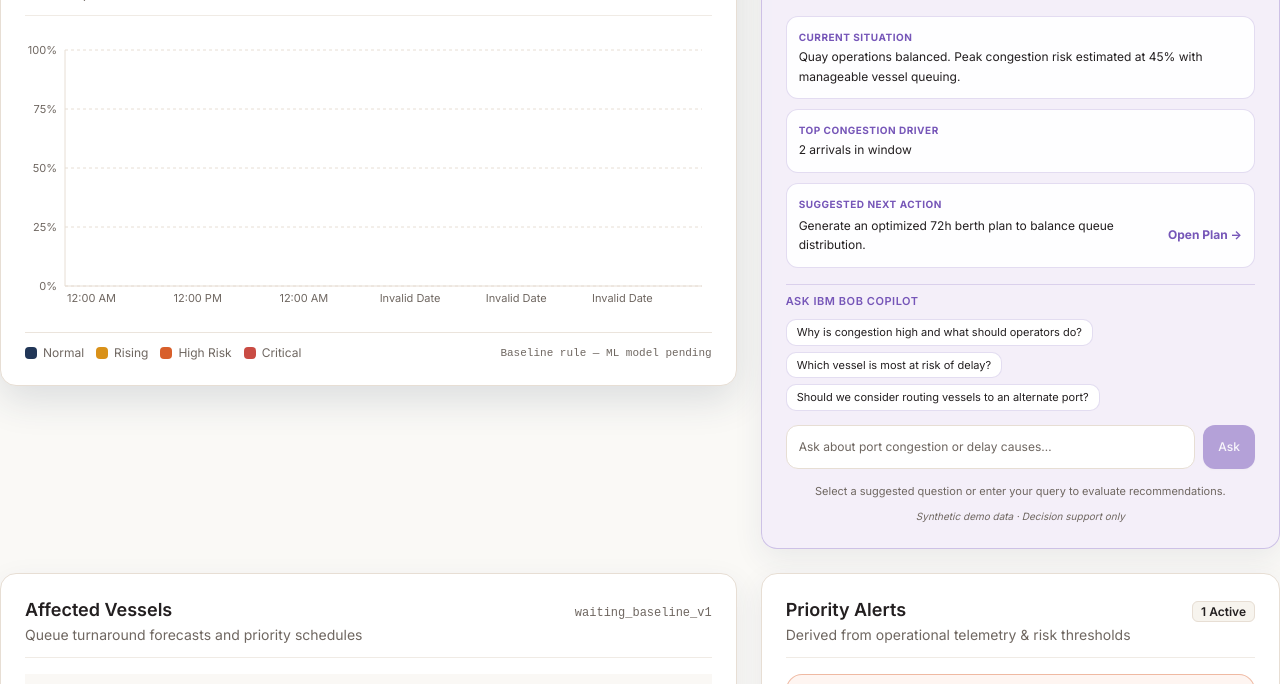
Test: DashboardPage › shows copilot response when ask succeeds
This screenshot has width=1280, height=684.
(page scrolled)
expect the button with test id "copilot-ask-btn" is shown: met, box [1203,424,1255,468]
What coordinates should you click on to do the following:
click the button "Why is congestion high and what should operators do?"
I would click on:
 (939, 332)
Its box is [786,319,1093,346].
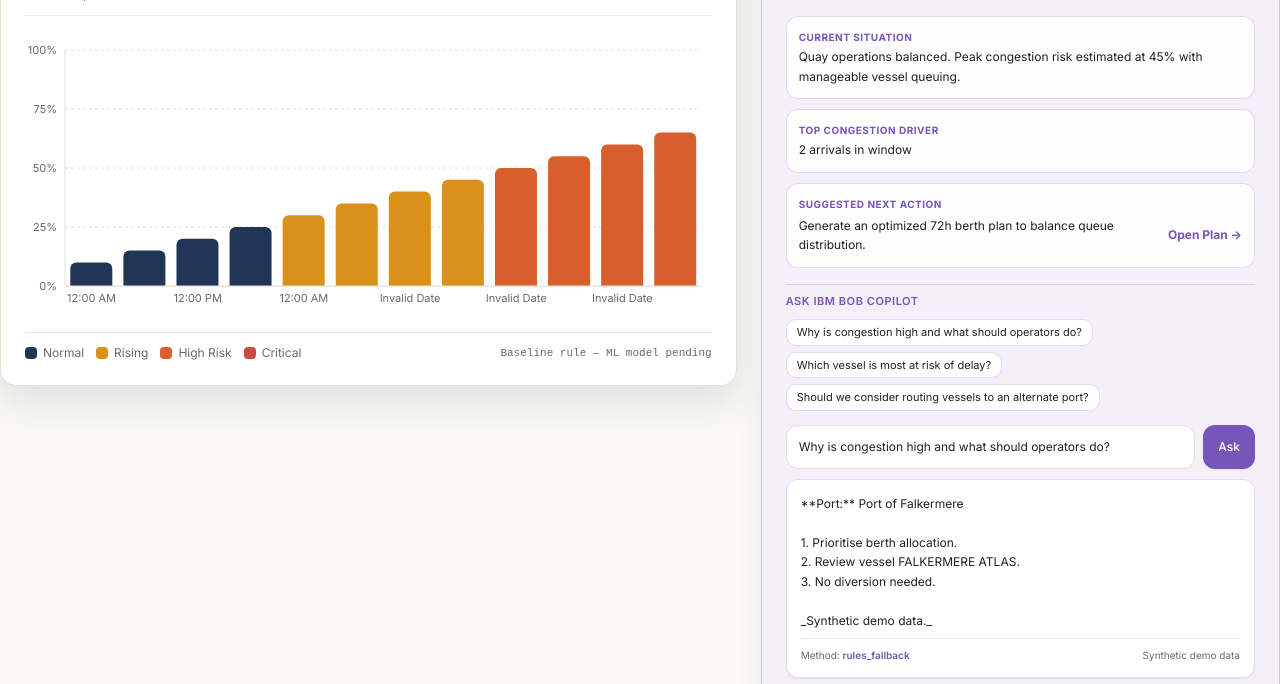
expect the element with test id "copilot-response" is shown: met, box [786,478,1255,678]
expect the text with test id "copilot-method" reads "rules_fallback": met, box [842,649,910,661]
